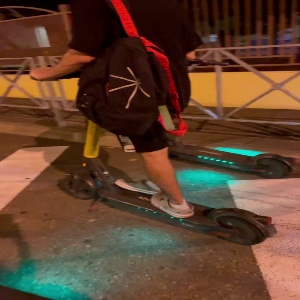human on a scooter: (26, 1, 281, 248)
